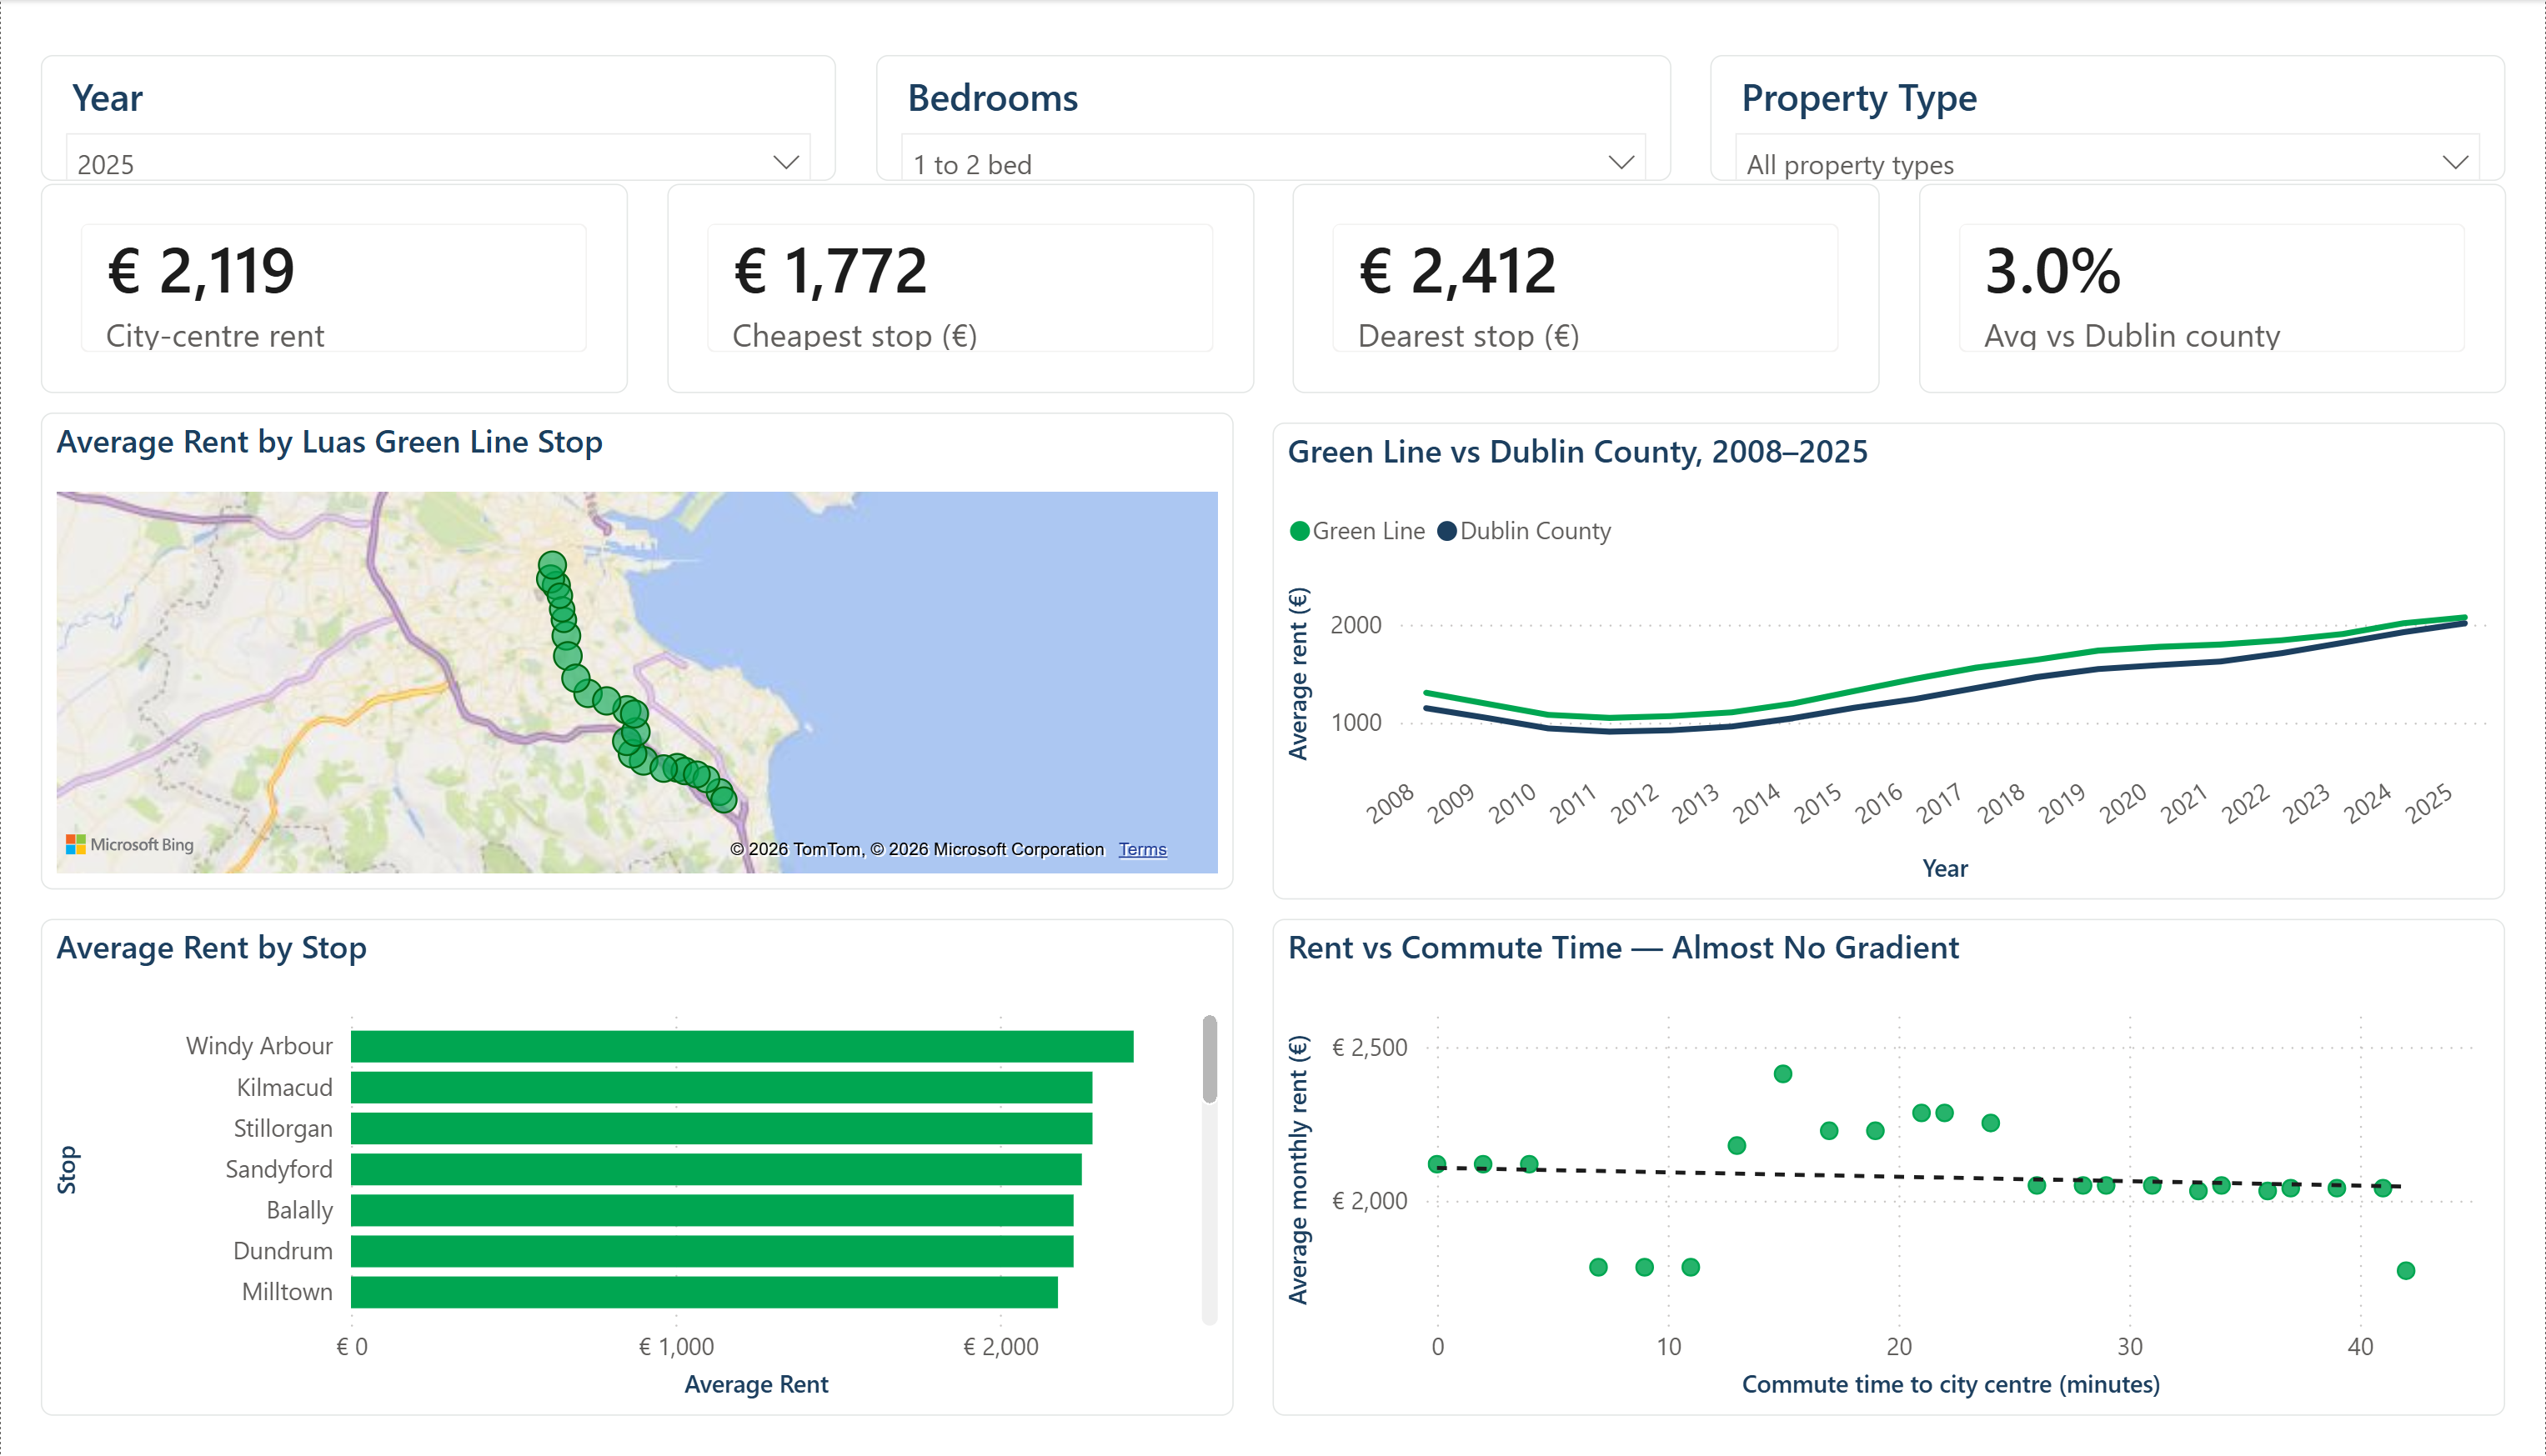

This screenshot's page, from the dashboard's own definition file:
{"tool":"powerbi","page":{"name":"Luas Green Line Rent Explorer","canvas":[1280,720],"ordinal":0},"visuals":[{"type":"slicer","fields":{"Values":["luas_rent_powerbi.year"]},"box":[20,15,400,63],"z":0},{"type":"slicer","fields":{"Values":["luas_rent_powerbi.property_type"]},"box":[860,15,400,63],"z":1000},{"type":"slicer","fields":{"Values":["luas_rent_powerbi.bedrooms"]},"box":[440,15,400,63],"z":2000},{"type":"cardVisual","fields":{"Data":["luas_rent_powerbi.City Centre Rent"]},"box":[20,80,295,105],"z":3000},{"type":"cardVisual","fields":{"Data":["luas_rent_powerbi.Cheapest Stop Rent"]},"box":[335,80,295,105],"z":4000},{"type":"cardVisual","fields":{"Data":["luas_rent_powerbi.Dearest Stop Rent"]},"box":[650,80,295,105],"z":5000},{"type":"cardVisual","fields":{"Data":["luas_rent_powerbi.Vs Dublin %"]},"box":[965,80,295,105],"z":6000},{"type":"map","title":"Average Rent by Luas Green Line Stop","fields":{"Y":["luas_rent_powerbi.latitude"],"X":["luas_rent_powerbi.longitude"],"Size":["luas_rent_powerbi.Avg Rent"]},"box":[20,195,600,240],"z":7000},{"type":"clusteredBarChart","title":"Average Rent by Stop","fields":{"Category":["luas_rent_powerbi.station"],"Y":["luas_rent_powerbi.Avg Rent"]},"box":[20,450,600,250],"z":8000},{"type":"lineChart","title":"Green Line vs Dublin County, 2008–2025","fields":{"Category":["YearAxis.Year Label"],"Y":["YearAxis.Trend Rent","YearAxis.Trend Dublin Avg 2"]},"box":[640,200,620,240],"z":9000},{"type":"scatterChart","title":"Rent vs Commute Time — Almost No Gradient","fields":{"X":["Sum(luas_rent_powerbi.travel_min_to_centre)"],"Y":["luas_rent_powerbi.Avg Rent"],"Category":["luas_rent_powerbi.station"]},"box":[640,450,620,250],"z":10000}]}

Visuals, with their boxes in screenshot pixels (x1, y1, x2, y2), scaled from the page's 1280x720 canvas onto the 2546x1456 screenshot:
slicer - luas_rent_powerbi.year: detection(40, 30, 835, 158)
slicer - luas_rent_powerbi.property_type: detection(1711, 30, 2506, 158)
slicer - luas_rent_powerbi.bedrooms: detection(875, 30, 1671, 158)
cardVisual - luas_rent_powerbi.City Centre Rent: detection(40, 162, 627, 374)
cardVisual - luas_rent_powerbi.Cheapest Stop Rent: detection(666, 162, 1253, 374)
cardVisual - luas_rent_powerbi.Dearest Stop Rent: detection(1293, 162, 1880, 374)
cardVisual - luas_rent_powerbi.Vs Dublin %: detection(1919, 162, 2506, 374)
"Average Rent by Luas Green Line Stop" map: detection(40, 394, 1233, 879)
"Average Rent by Stop" clusteredBarChart: detection(40, 910, 1233, 1415)
"Green Line vs Dublin County, 2008–2025" lineChart: detection(1273, 404, 2506, 890)
"Rent vs Commute Time — Almost No Gradient" scatterChart: detection(1273, 910, 2506, 1415)
